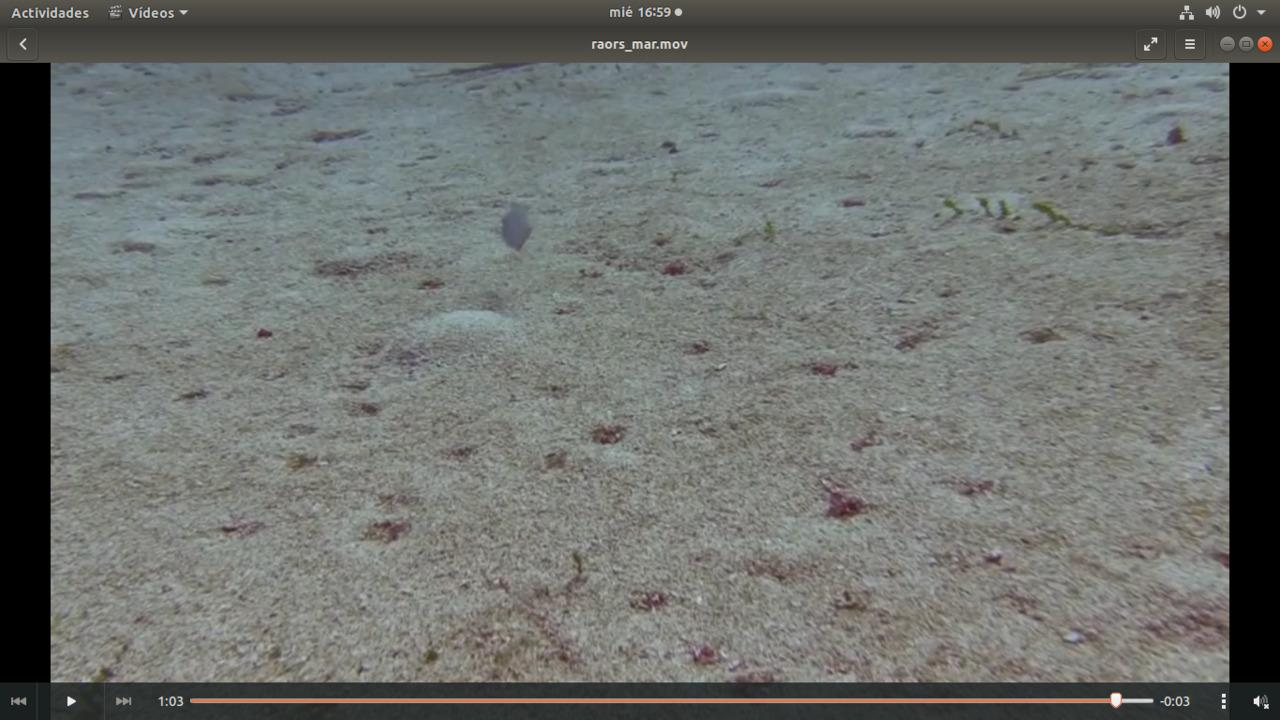raor: (482, 194, 543, 267)
